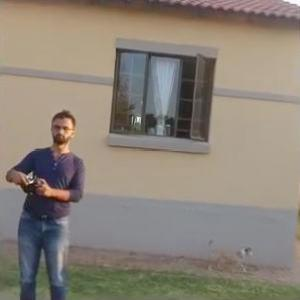follow: (0, 102, 91, 299)
null: (204, 226, 254, 276)
